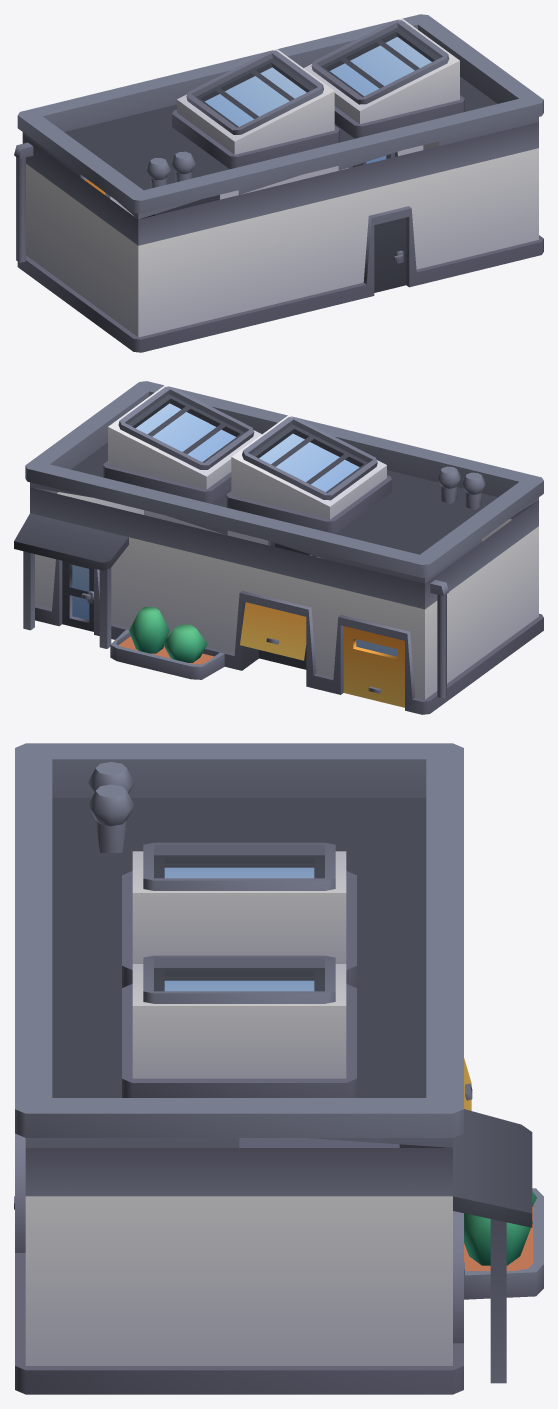
Rendered from building-p.lod.glb.
3 views of the same model, one above another, from view 1: azimuth 30°, elevation 25°; view 2: azimuth 150°, elevation 25°; view 3: azimuth 270°, elevation 25° (orthographic). The views are drawn at different scales.
Parts seen in each view (by area): view 1: building-p; view 2: building-p; view 3: building-p.
Part boxes in pixels (box(x1,y1,x2,y2)): building-p: box(14, 14, 543, 352); building-p: box(14, 381, 543, 714); building-p: box(14, 743, 543, 1394).
Size of the model in its own units: 1.68 by 0.7145 by 0.992.
Materials: 1 (1 with a texture image).
